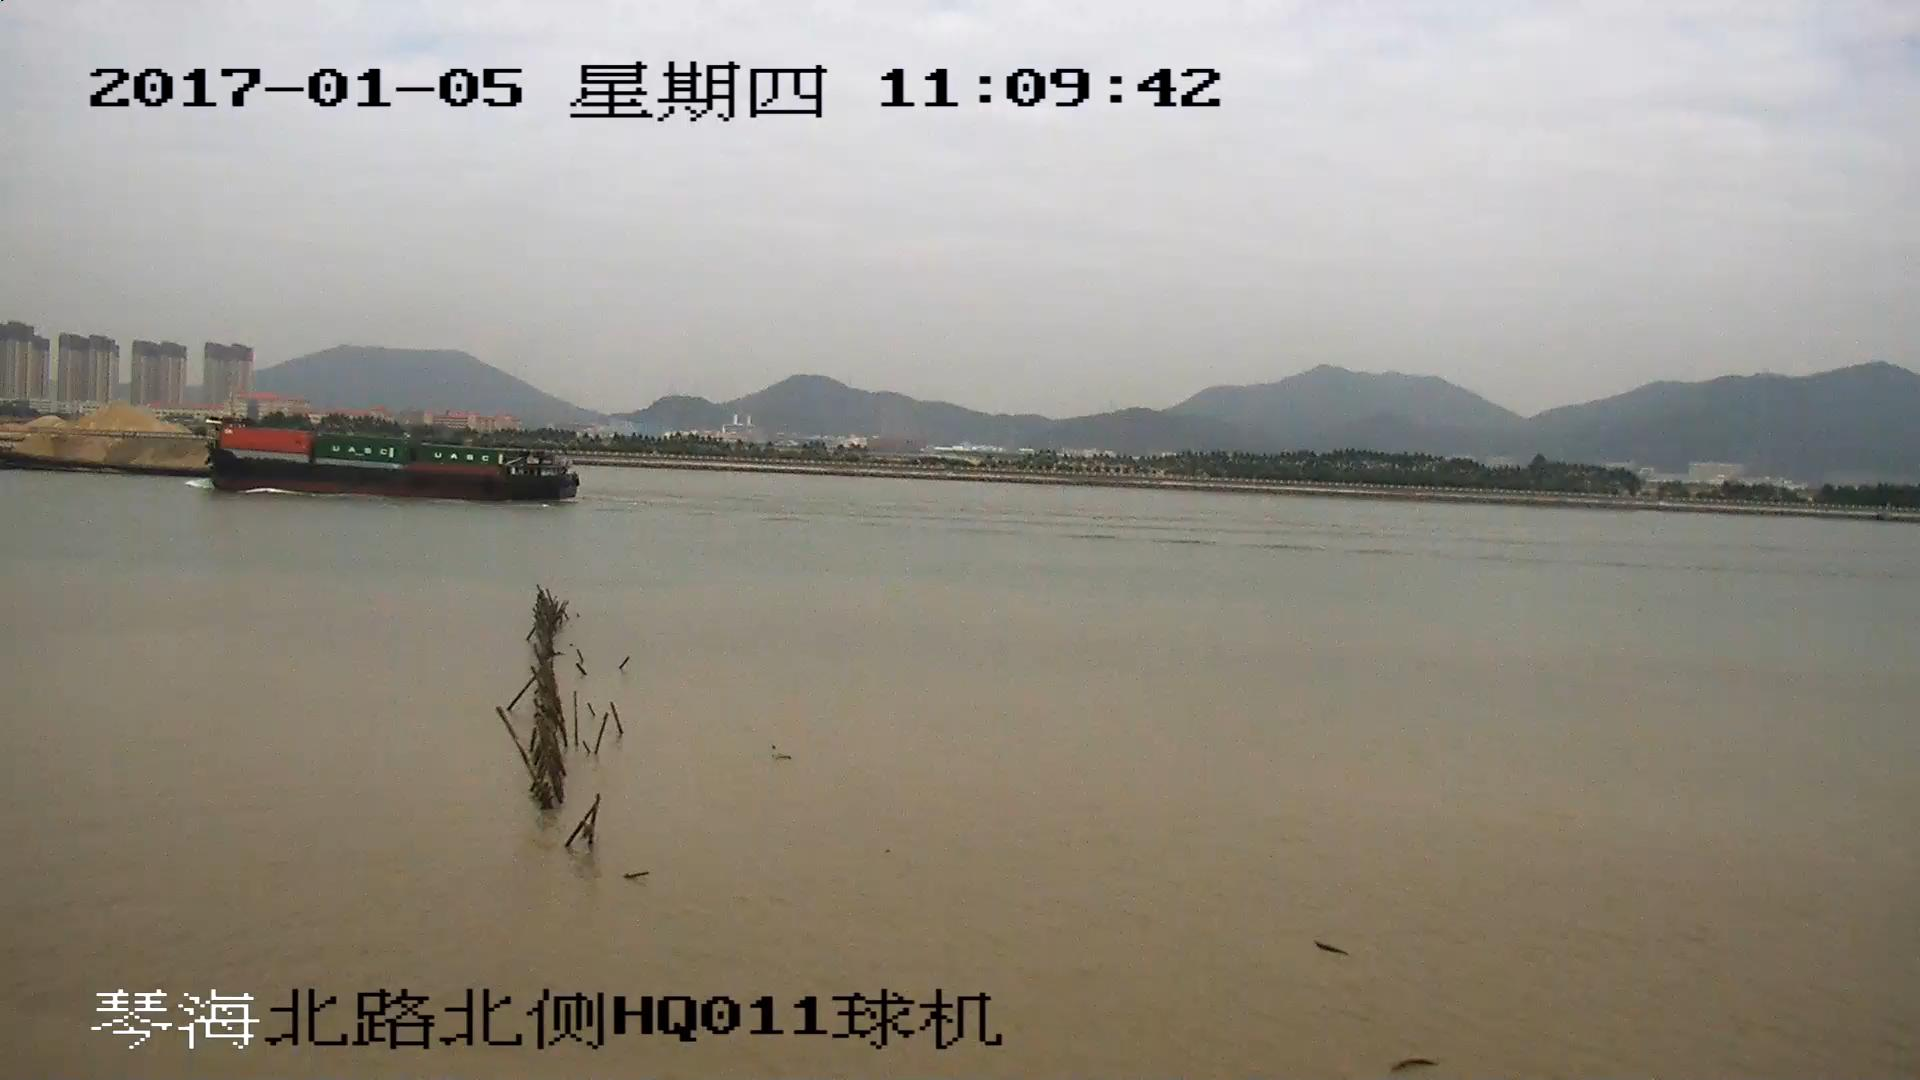container ship: (211, 416, 578, 500)
ore carrier: (1, 422, 209, 479)
